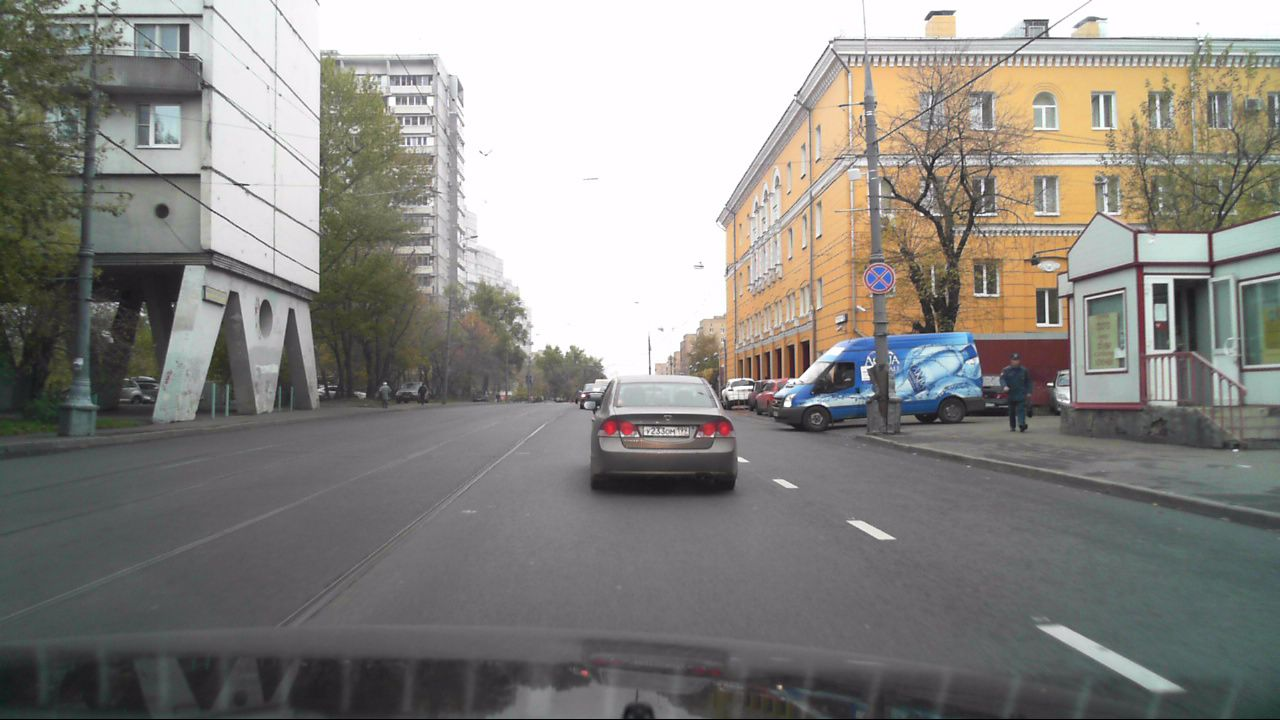No Parking: (863, 264, 895, 294)
